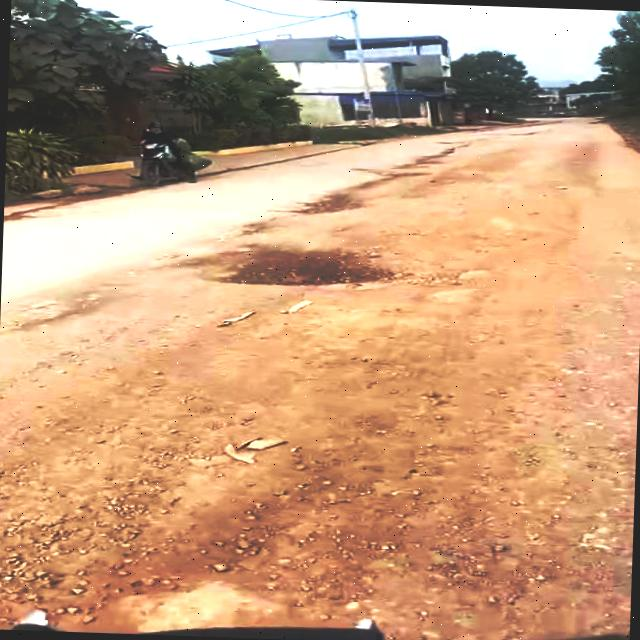pothole: (424, 186, 598, 296), (169, 231, 424, 298), (284, 179, 367, 220)
